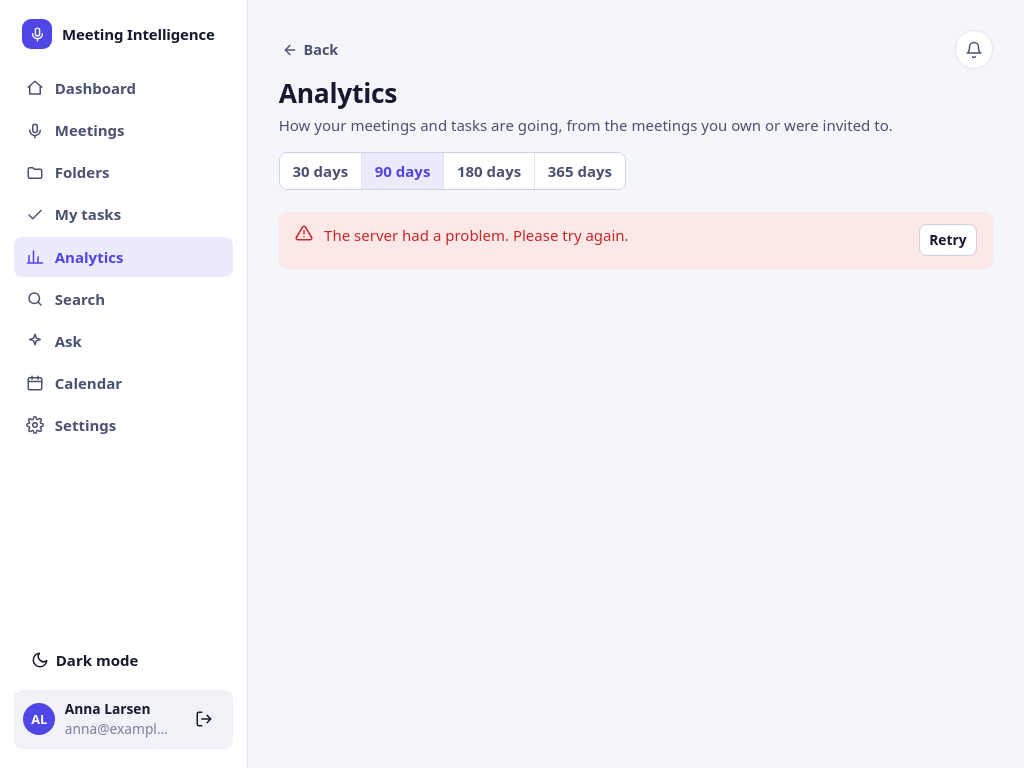
Scenario: the Analytics page › shows an error with a retry
Expected: the message shows "The server had a problem", x1=324 y1=225 x2=629 y2=245
Click the button "Retry" at (948, 240), box x1=919 y1=224 x2=977 y2=256
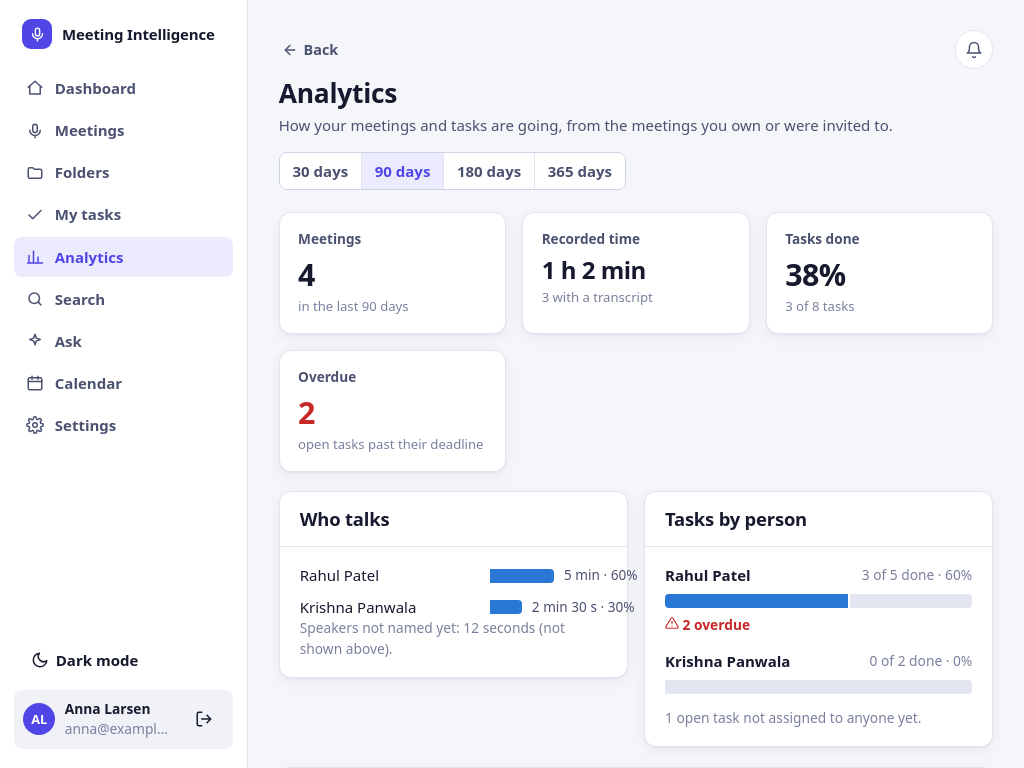
Result: the heading "Tasks by person" is shown at x1=665 y1=508 x2=807 y2=530
